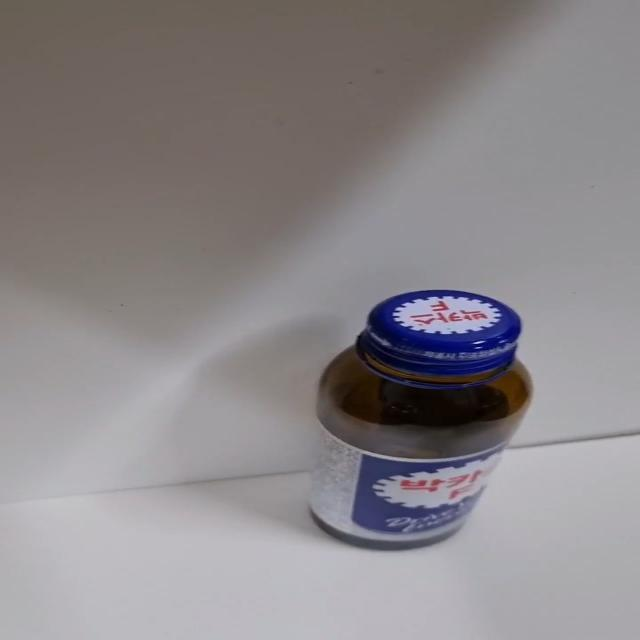Glass: (305, 289, 534, 553)
